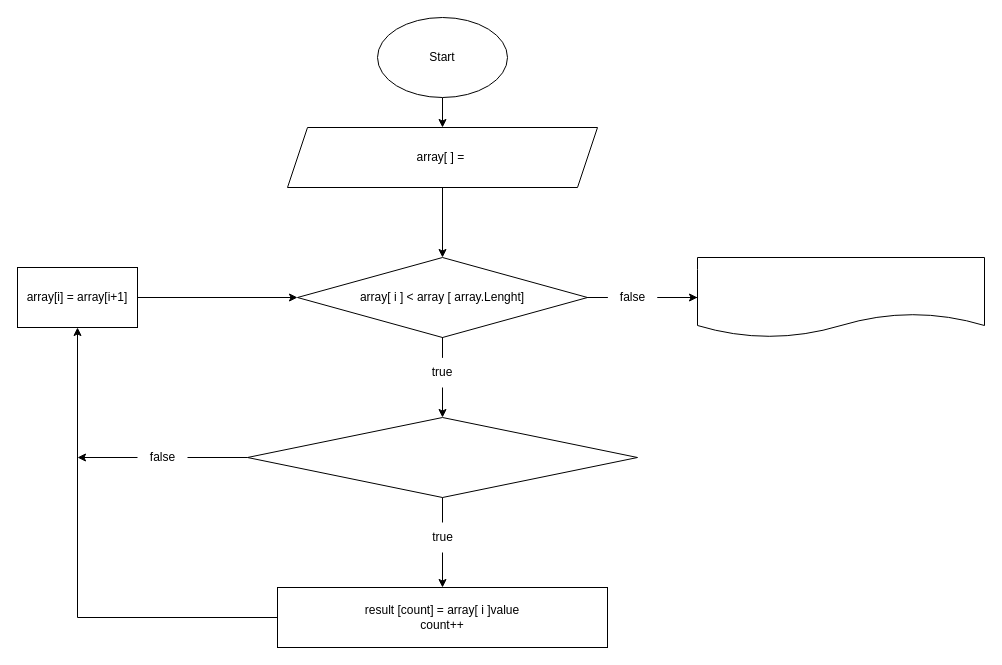
Image size: 1002x665. Some labels were removed from this diagram. The box of each missing label's shape, as (x1, y1, x2, y2) in pixels:
array[ i ] lenght <=3: (246, 416, 638, 498)
Console.WriteLine(string.Join(Environment.NewLine, result, 0, count));: (696, 256, 984, 338)
